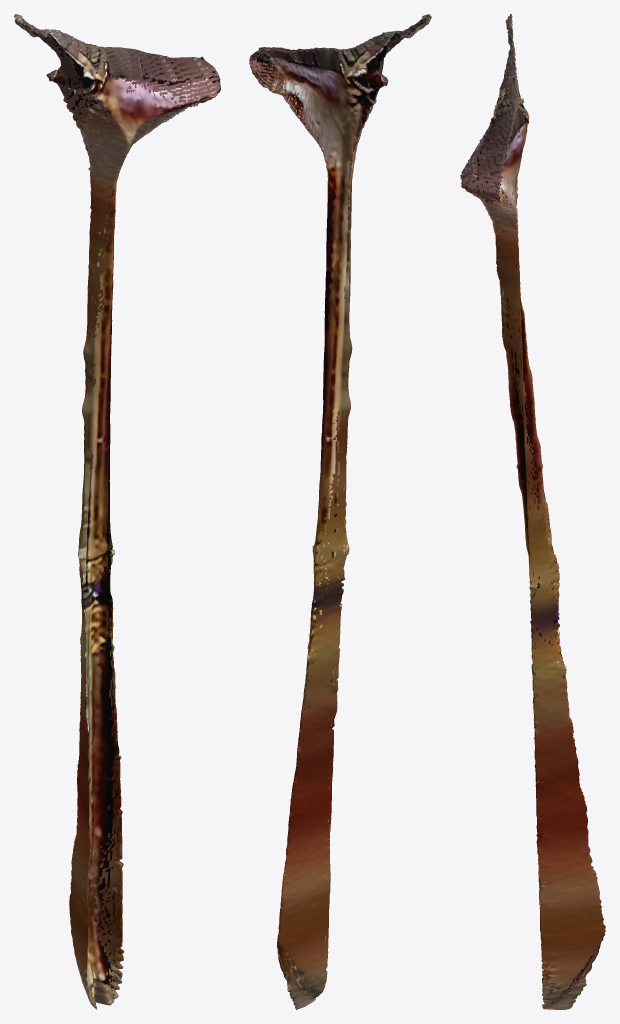
The model's file is kfl-2201.glb.
The picture shows the model from 3 angles, left to right: view 1: azimuth 30°, elevation 25°; view 2: azimuth 150°, elevation 25°; view 3: azimuth 270°, elevation 25°; orthographic projection. The views are drawn at different scales.
Visible parts, largest first — view 1: kfl-2201; view 2: kfl-2201; view 3: kfl-2201.
Boxes of the visible parts, x1,y1,x2,y2 form: kfl-2201: (14,14,220,1009); kfl-2201: (249,14,431,1009); kfl-2201: (460,14,605,1009).
Bounding box in the file's own units: 0.1932 × 0.982 × 0.1368.
4 materials, 4 textured.
